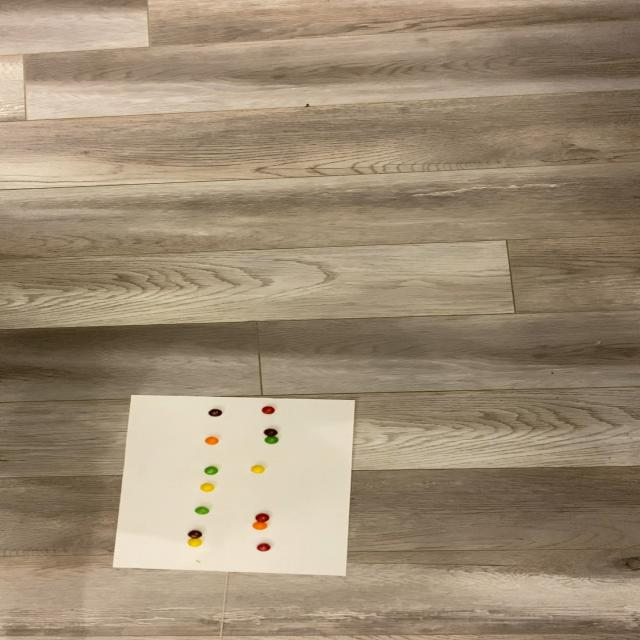smartie: (200, 483, 216, 493), (264, 427, 278, 437), (206, 436, 221, 445), (264, 435, 279, 444), (249, 466, 264, 475), (195, 506, 210, 515), (187, 531, 202, 540), (253, 521, 268, 530), (187, 538, 202, 547), (207, 408, 221, 417), (260, 406, 274, 415), (205, 467, 219, 476), (257, 543, 271, 552), (255, 514, 270, 522)
